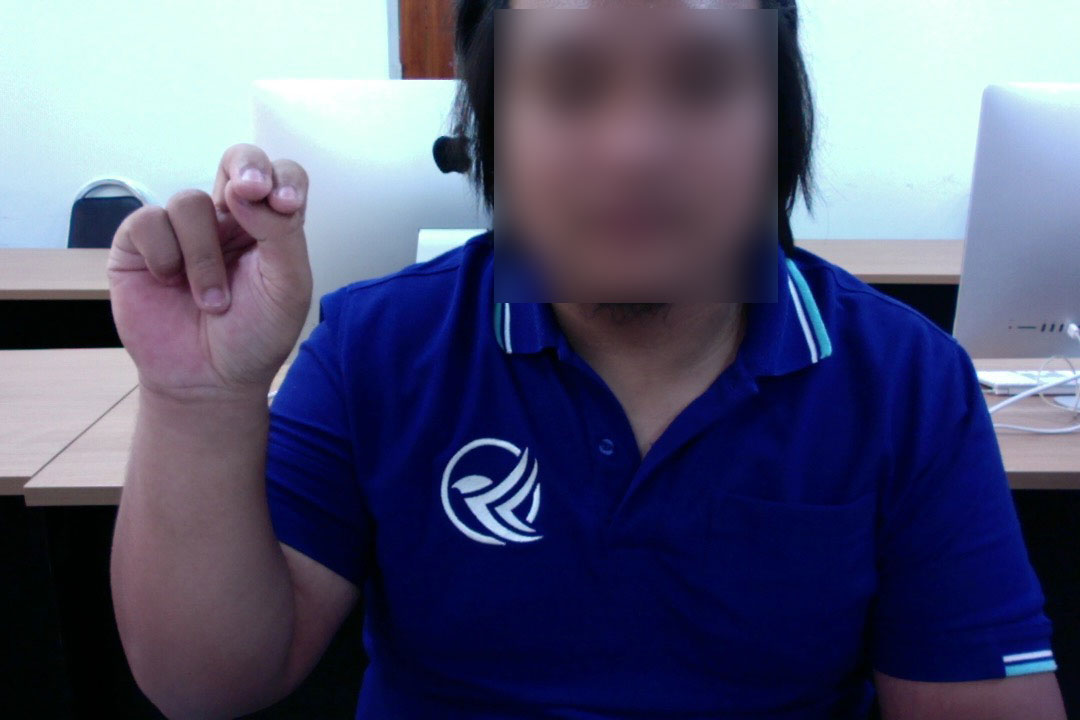nor: (97, 140, 318, 411)
